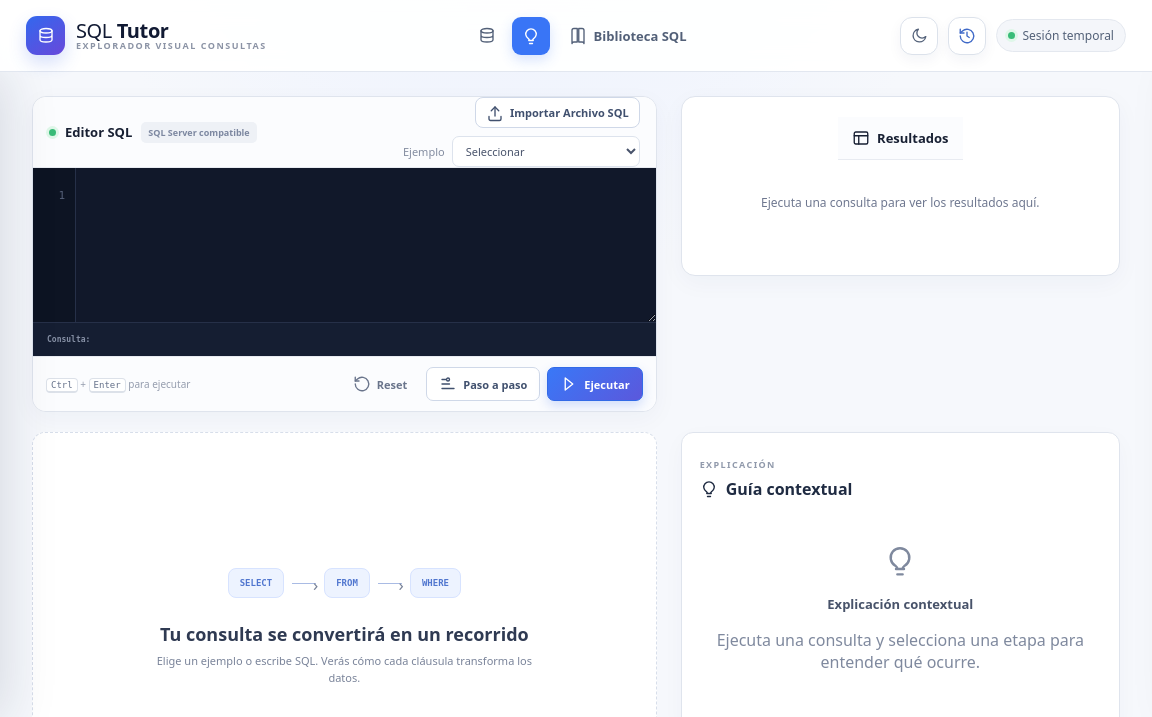
Test: App SQL flows › reset clears editor and execution without restoring the temporary database
Type "INSERT INTO Categories (category_id, name) VALUES (4, 'Books');" into the text box named "consulta sql". click: (366, 245)
box: [76, 168, 656, 322]
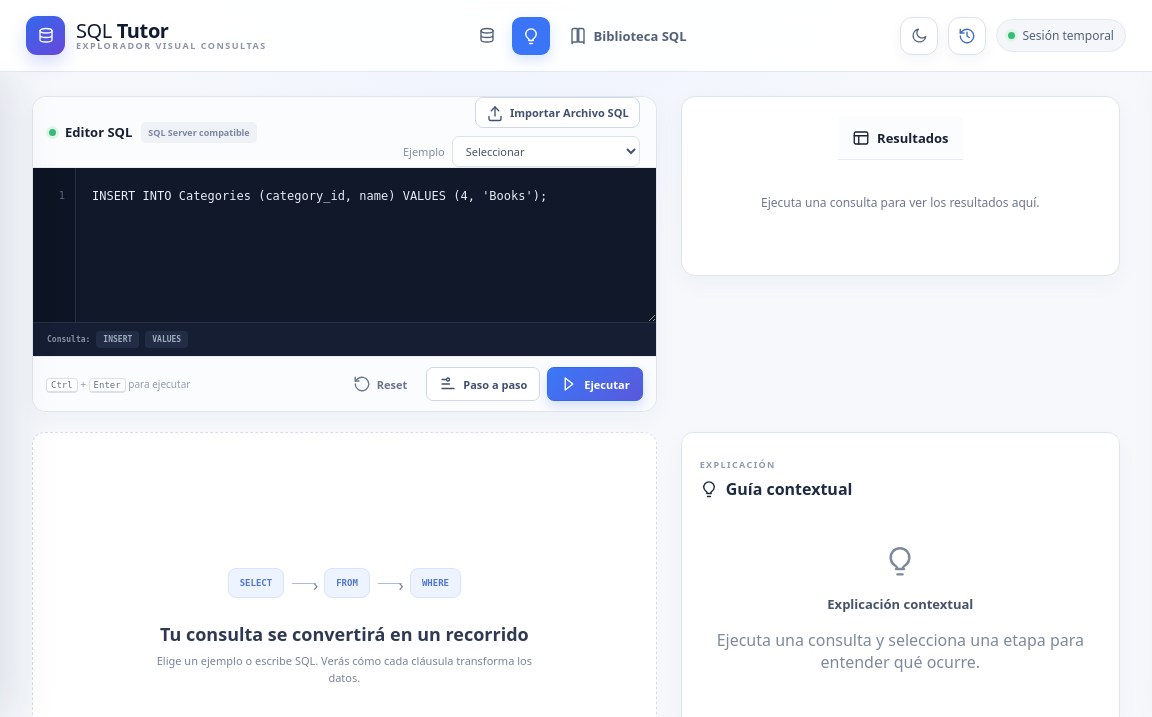
Click the button "Ejecutar". click: (595, 384)
box: [547, 367, 643, 401]
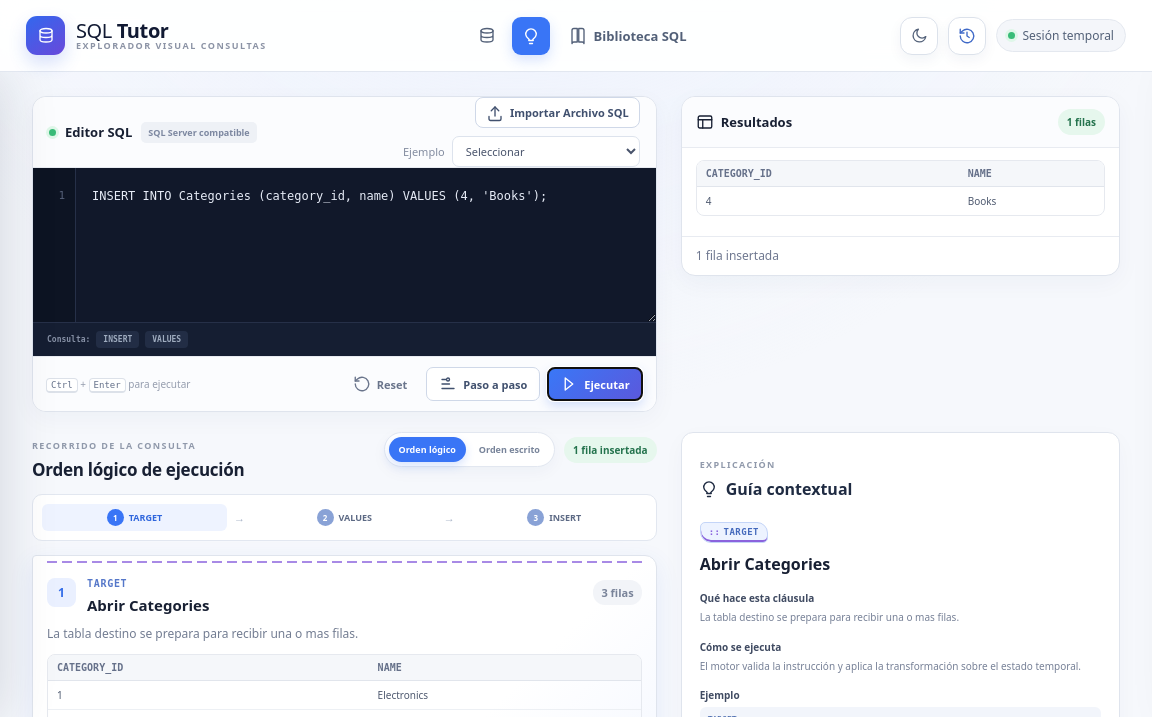
expect the text "Books" is shown: met, box [959, 186, 1104, 215]
Click the button "Reset". click: (380, 384)
box: [341, 367, 419, 401]
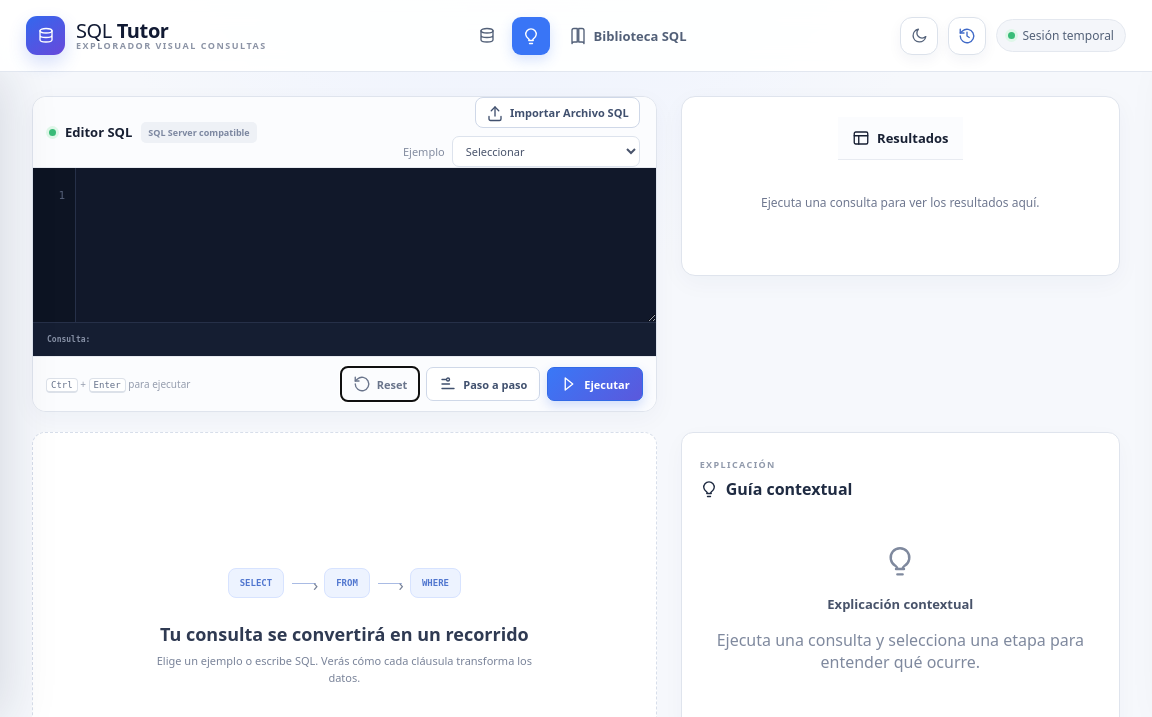
expect the text box named "consulta sql" is empty: met
expect the heading "Tu consulta se convertirá en un recorrido" is shown: met, box [160, 622, 529, 646]
Type "SELECT name FROM Categories WHERE category_id = 4;" into the text box named "consulta sql". click: (366, 245)
box: [76, 168, 656, 322]
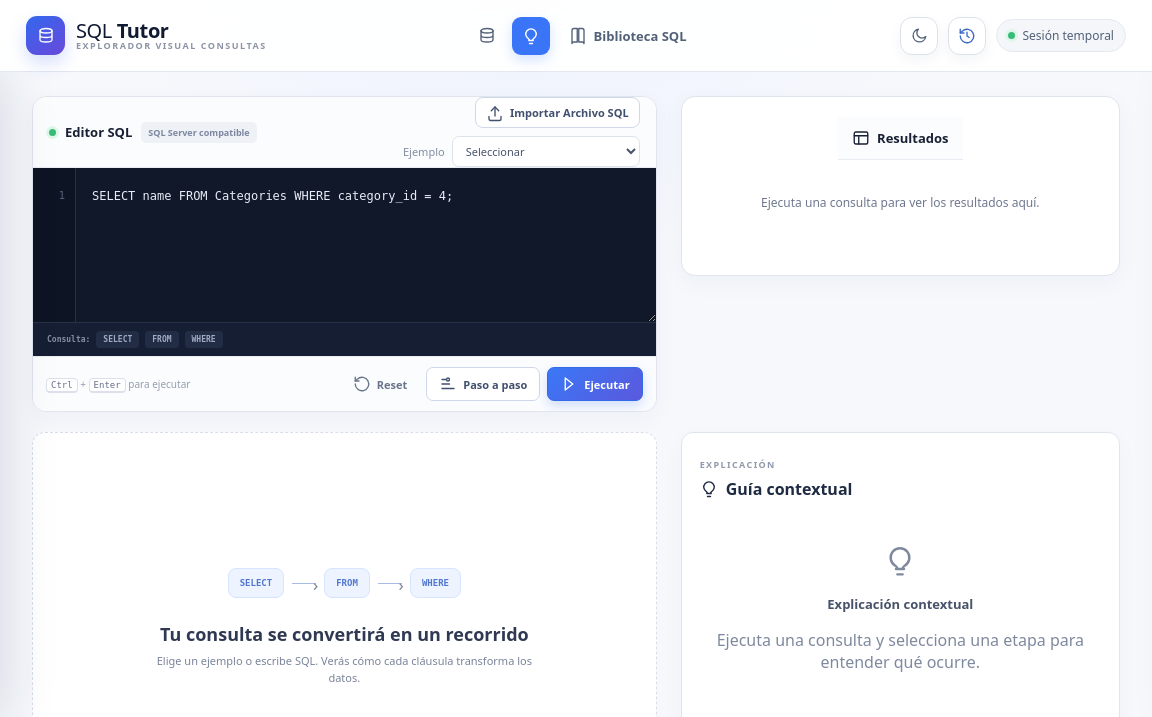
Click the button "Ejecutar". click: (595, 384)
box: [547, 367, 643, 401]
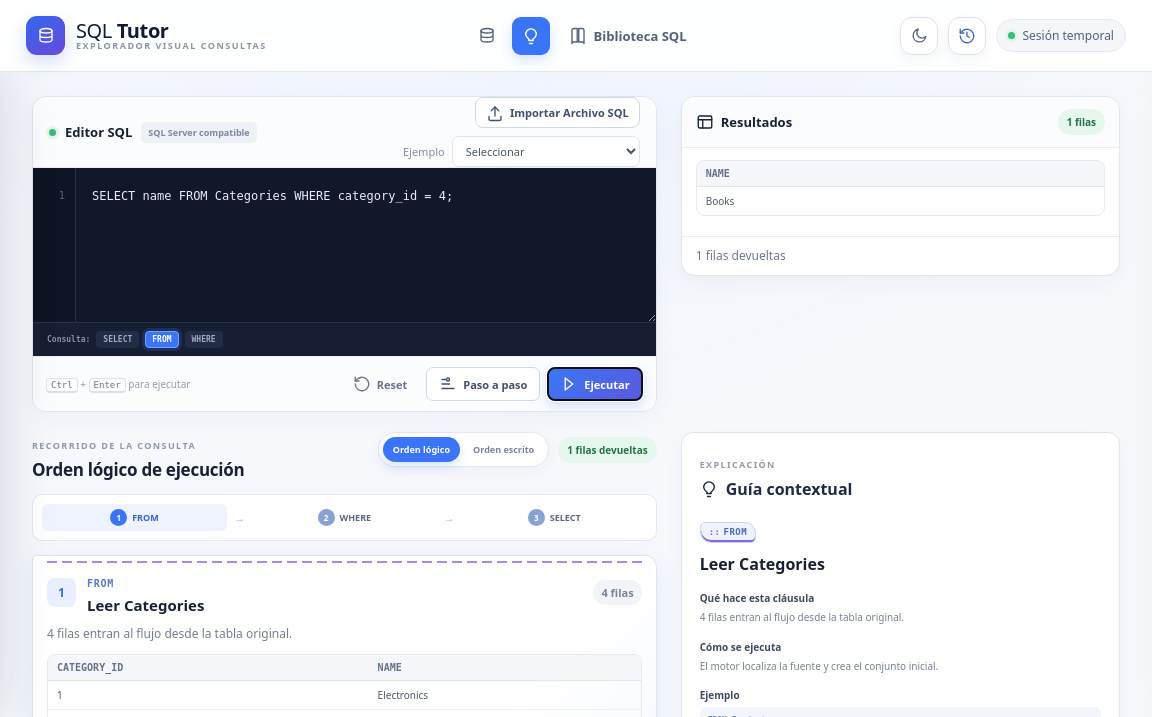
expect the text "Books" is shown: met, box [697, 186, 1104, 215]
